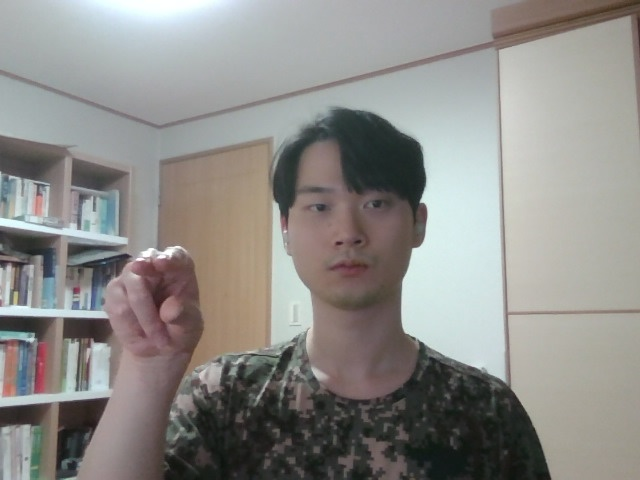no: (87, 234, 232, 375)
